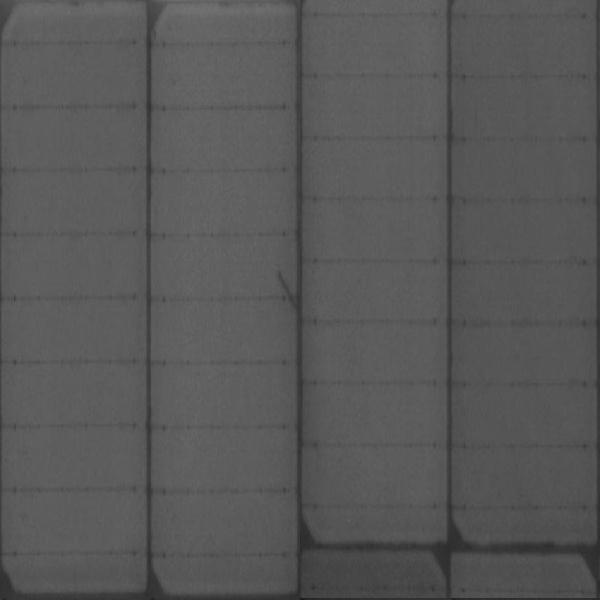scratch: (275, 271, 296, 312)
